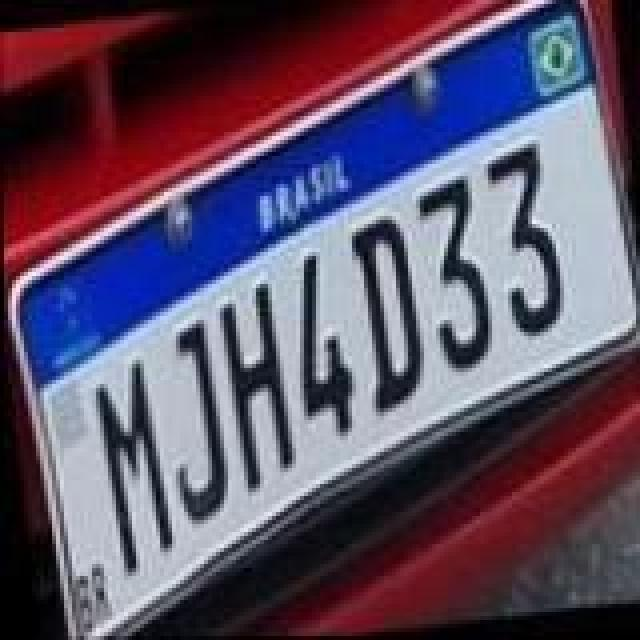3: (406, 170, 498, 378), (478, 140, 566, 344)
4: (280, 248, 360, 448)
D: (344, 210, 432, 422)
H: (212, 280, 300, 500)
J: (154, 316, 238, 528)
M: (88, 354, 180, 578)
